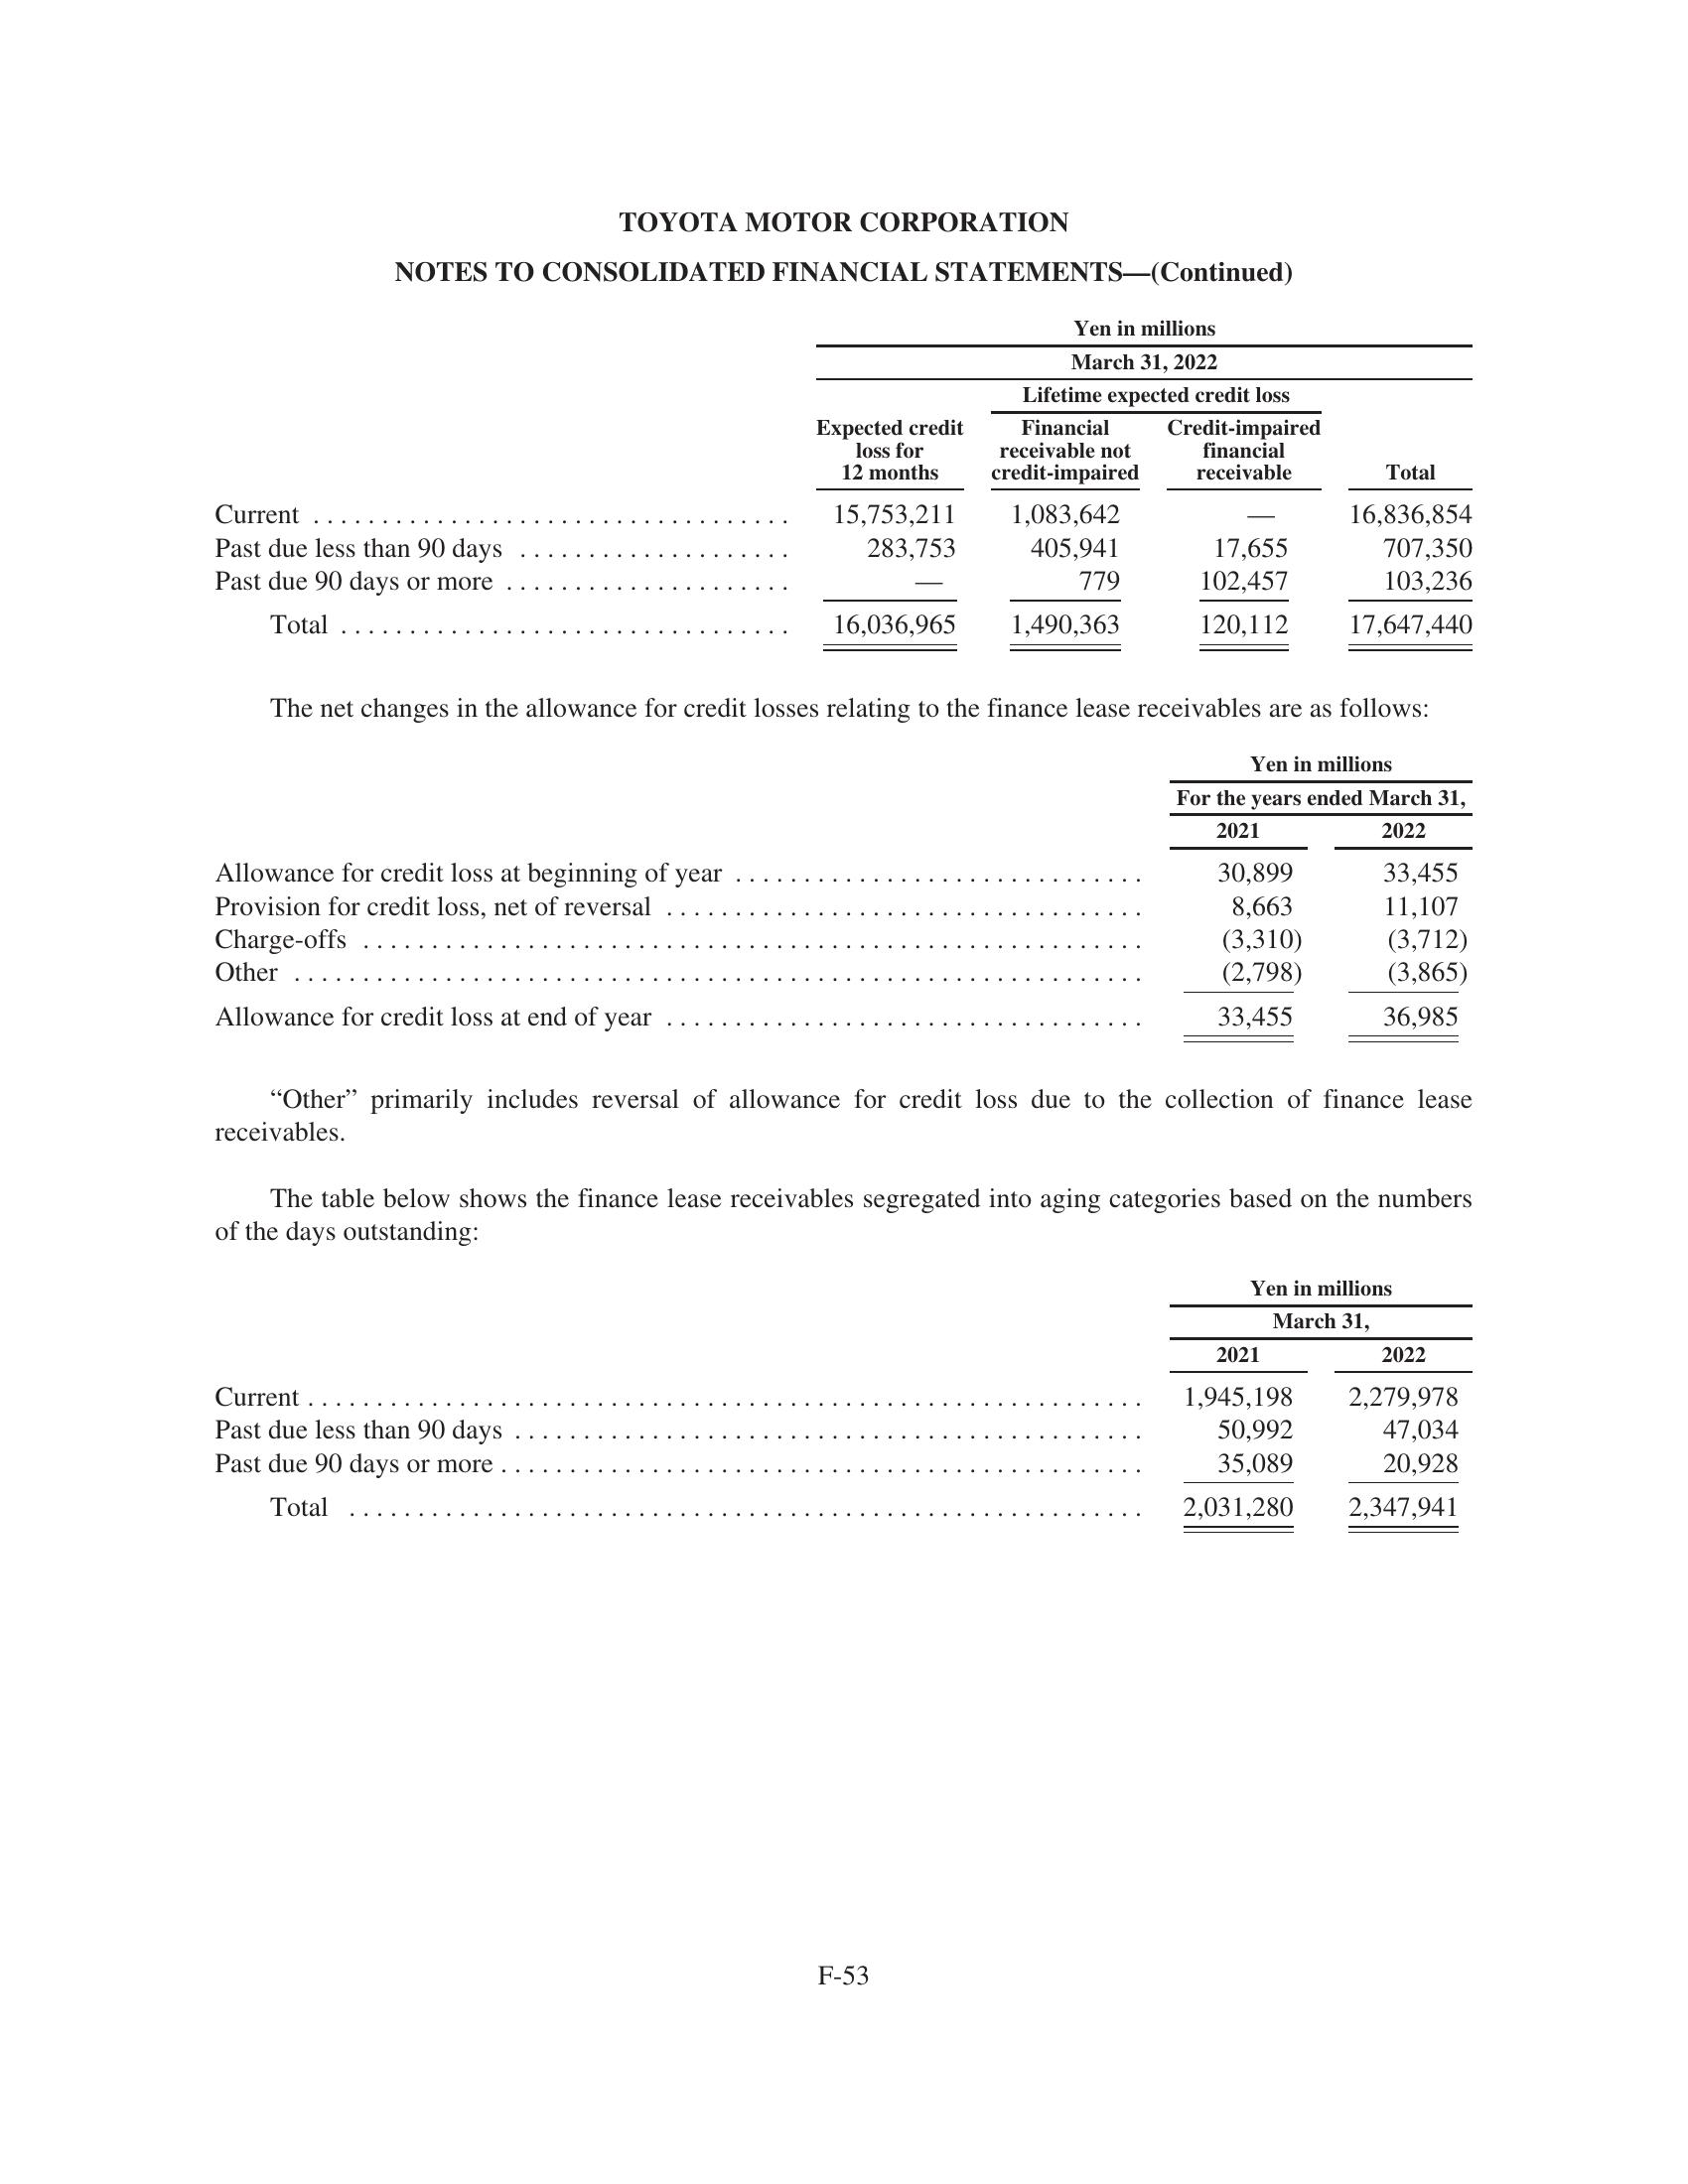Footer: (0, 1959, 1688, 2184)
Header: (0, 0, 1688, 170)
Table: (176, 307, 1509, 656), (176, 723, 1491, 1051), (167, 1264, 1488, 1567)
